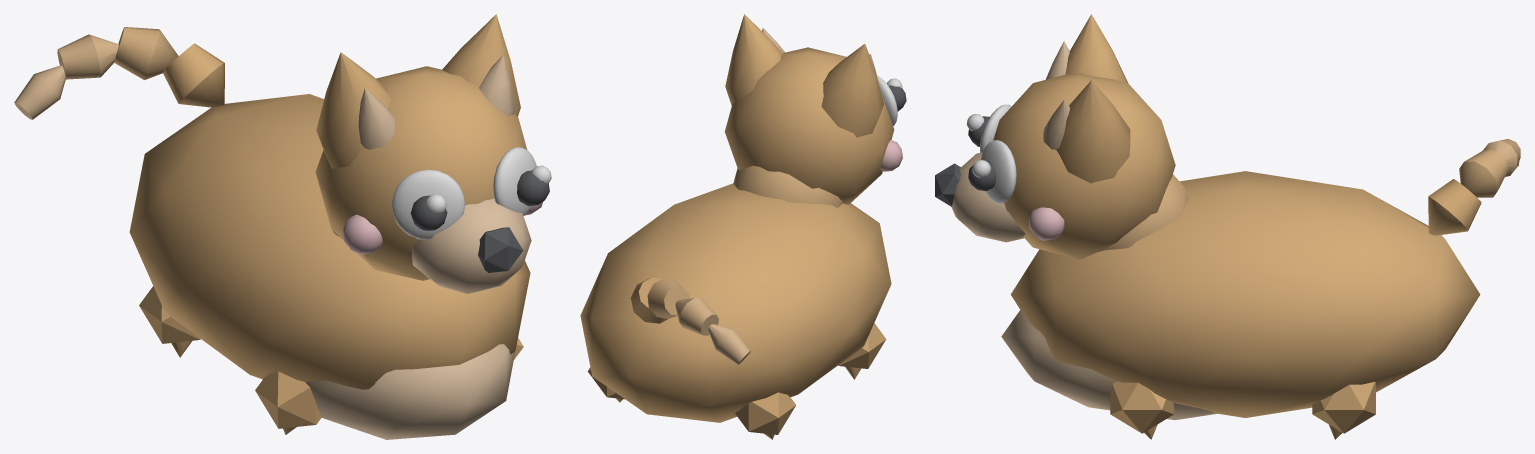
File: felis-catus.glb
3 views of the same model, side by side, from view 1: azimuth 30°, elevation 25°; view 2: azimuth 150°, elevation 25°; view 3: azimuth 270°, elevation 25° (orthographic). The views are drawn at different scales.
Visible parts, largest first — view 1: body, head, belly, snout, earr, tail0, face-eye-r, earl, tail1, tail2, face-eye-l, tail3 (+6 smaller); view 2: body, head, earr, earl, neck, tail1, tail2, tail3, tail0, face-blush--1, face-eye-r; view 3: body, head, earl, belly, snout, tail0, earr, tail1, neck, face-eye-l, face-blush-1, earinl (+2 smaller).
Part boxes in pixels (bbox=[...]): body: bbox=[129, 94, 530, 428]; head: bbox=[315, 66, 527, 280]; belly: bbox=[305, 344, 515, 439]; snout: bbox=[411, 198, 531, 293]; earr: bbox=[316, 52, 391, 168]; tail0: bbox=[163, 43, 224, 107]; face-eye-r: bbox=[391, 169, 465, 239]; earl: bbox=[442, 14, 520, 116]; tail1: bbox=[114, 27, 178, 79]; tail2: bbox=[57, 34, 118, 79]; face-eye-l: bbox=[493, 147, 536, 215]; tail3: bbox=[14, 65, 65, 119]; body: bbox=[580, 183, 891, 434]; head: bbox=[724, 47, 894, 204]; earr: bbox=[821, 44, 883, 137]; earl: bbox=[725, 14, 783, 105]; neck: bbox=[733, 165, 843, 207]; tail1: bbox=[647, 278, 689, 318]; tail2: bbox=[675, 298, 718, 335]; tail3: bbox=[708, 324, 750, 364]; tail0: bbox=[631, 277, 667, 323]; face-blush--1: bbox=[880, 140, 902, 171]; face-eye-r: bbox=[877, 75, 897, 125]; body: bbox=[1010, 171, 1480, 433]; head: bbox=[993, 73, 1175, 259]; earl: bbox=[1056, 80, 1130, 183]; belly: bbox=[1001, 310, 1217, 420]; snout: bbox=[951, 152, 1025, 242]; tail0: bbox=[1428, 179, 1481, 235]; earr: bbox=[1065, 14, 1128, 83]; tail1: bbox=[1459, 149, 1508, 197]; neck: bbox=[1098, 174, 1188, 251]; face-eye-l: bbox=[980, 140, 1016, 203]; face-blush-1: bbox=[1028, 207, 1064, 240]; earinl: bbox=[1043, 100, 1069, 149].
Bounding box in the file's own units: 0.584 × 0.7256 × 1.07.
